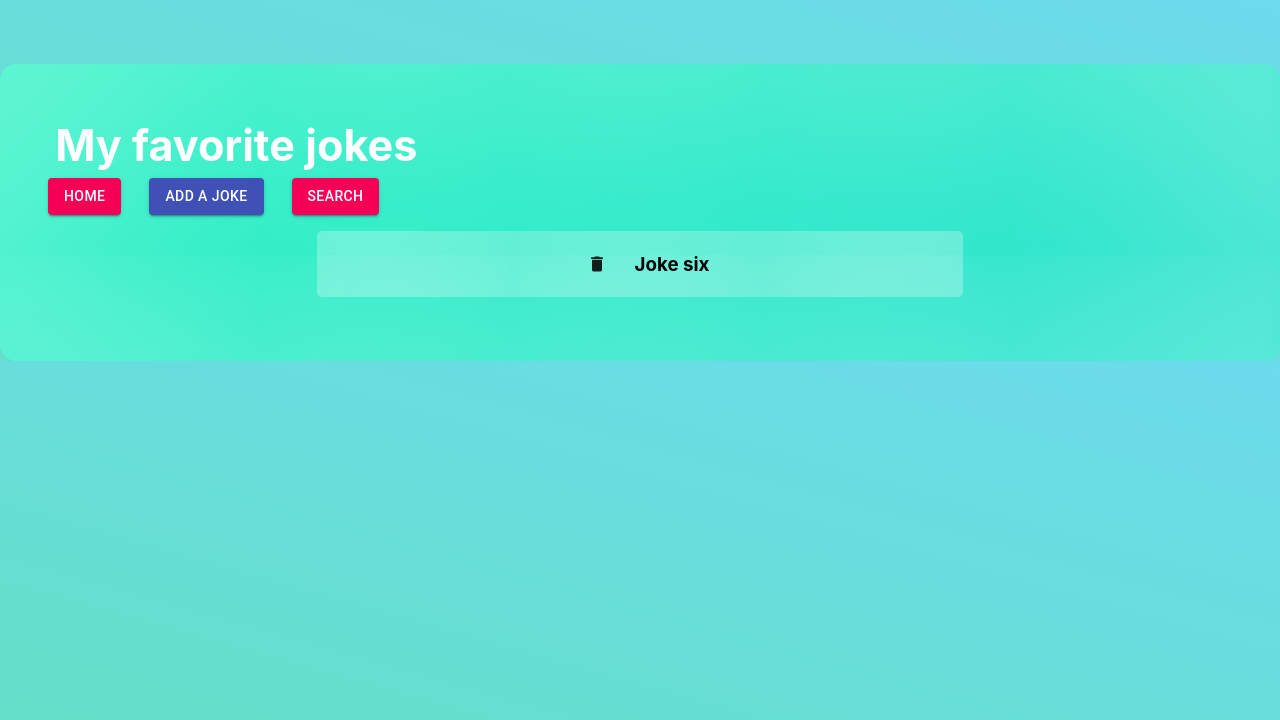
Saved › should take in a new joke
This screenshot has width=1280, height=720.
Click the button "Add a joke" at (206, 197), box [149,178,264,215]
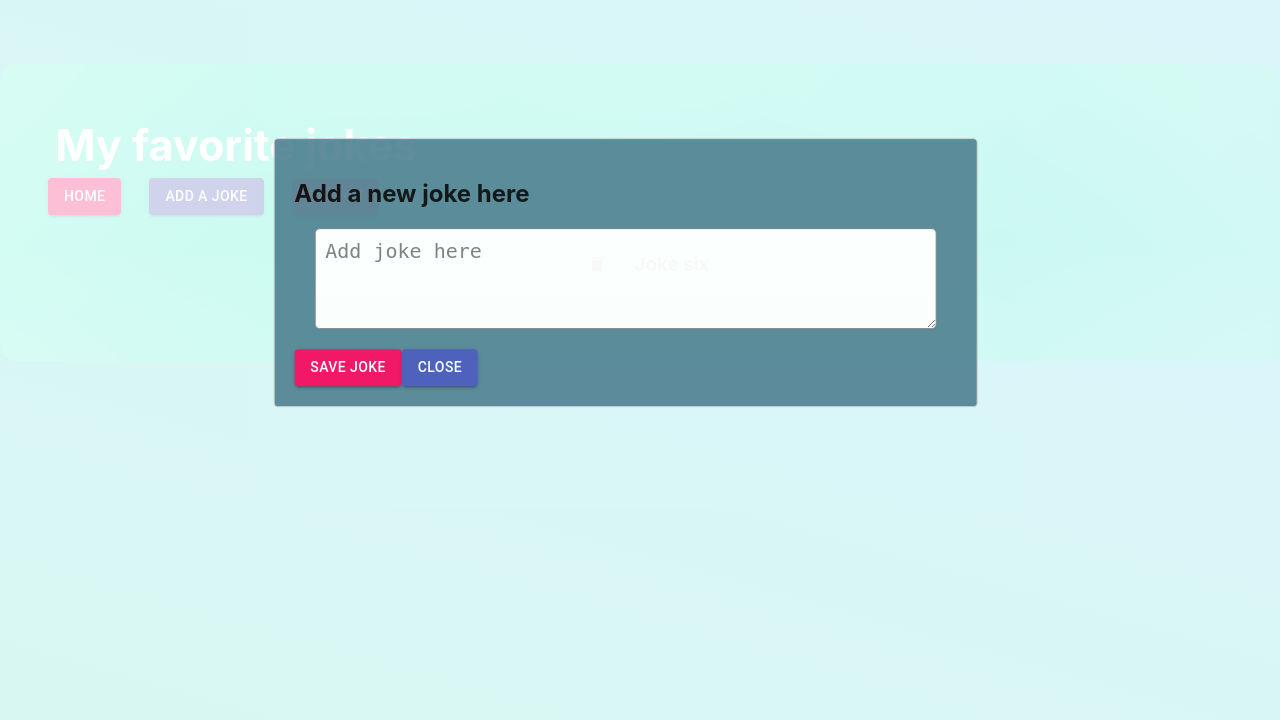
Result: the heading "Add a new joke here" is shown at [294,179,530,208]
Type "Why did the chicken cluck" into the text box with placeholder "Add joke here" at (625, 279), box [314,228,936,329]
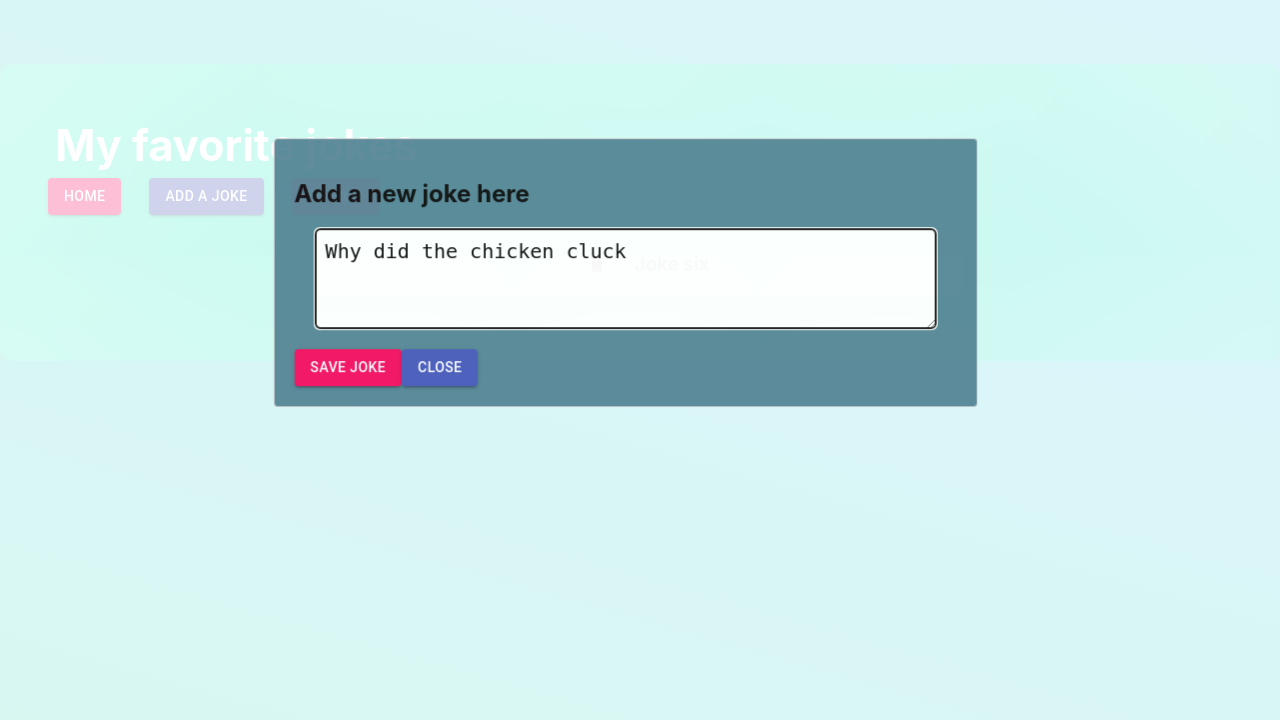
Click the button "Save joke" at (348, 368), box [294,349,402,386]
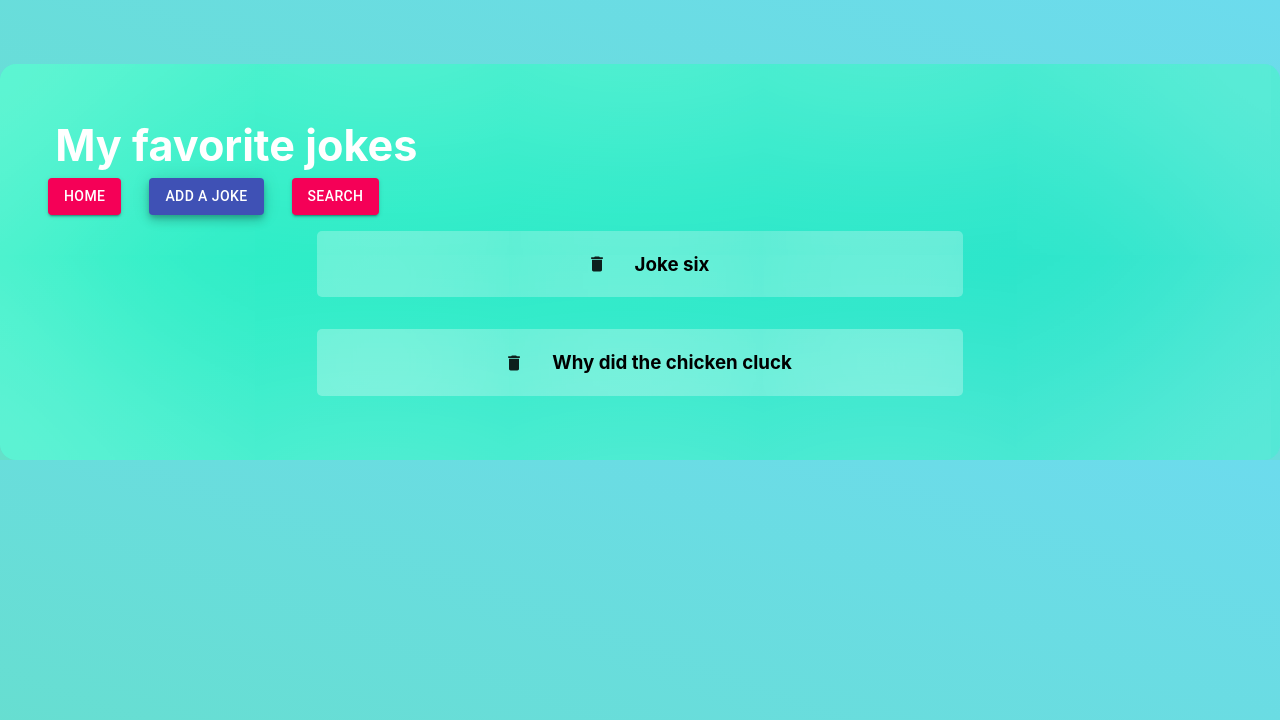
Result: the heading "Why did the chicken cluck" is shown at [552,351,792,374]
